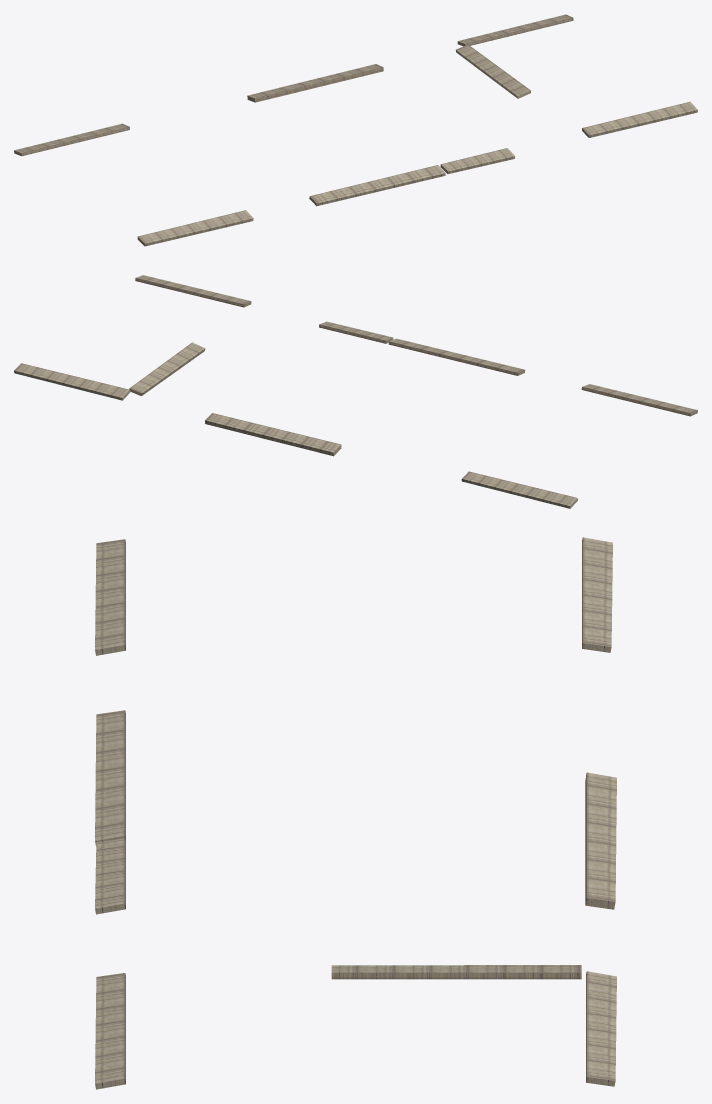
File: SM_HK_02_04_Col.fbx
3 views of the same model, one above another, from view 1: azimuth 30°, elevation 25°; view 2: azimuth 150°, elevation 25°; view 3: azimuth 270°, elevation 25° (orthographic). The views are drawn at different scales.
Parts seen in each view (by area): view 1: SM_HK_02_04_Col; view 2: SM_HK_02_04_Col; view 3: SM_HK_02_04_Col.
Boxes of the visible parts, box(x1,y1,x2,y2) form: SM_HK_02_04_Col: box(14, 14, 697, 246); SM_HK_02_04_Col: box(14, 275, 697, 508); SM_HK_02_04_Col: box(95, 537, 616, 1089).
Size of the model in its own units: 3079 by 51.83 by 1255.
